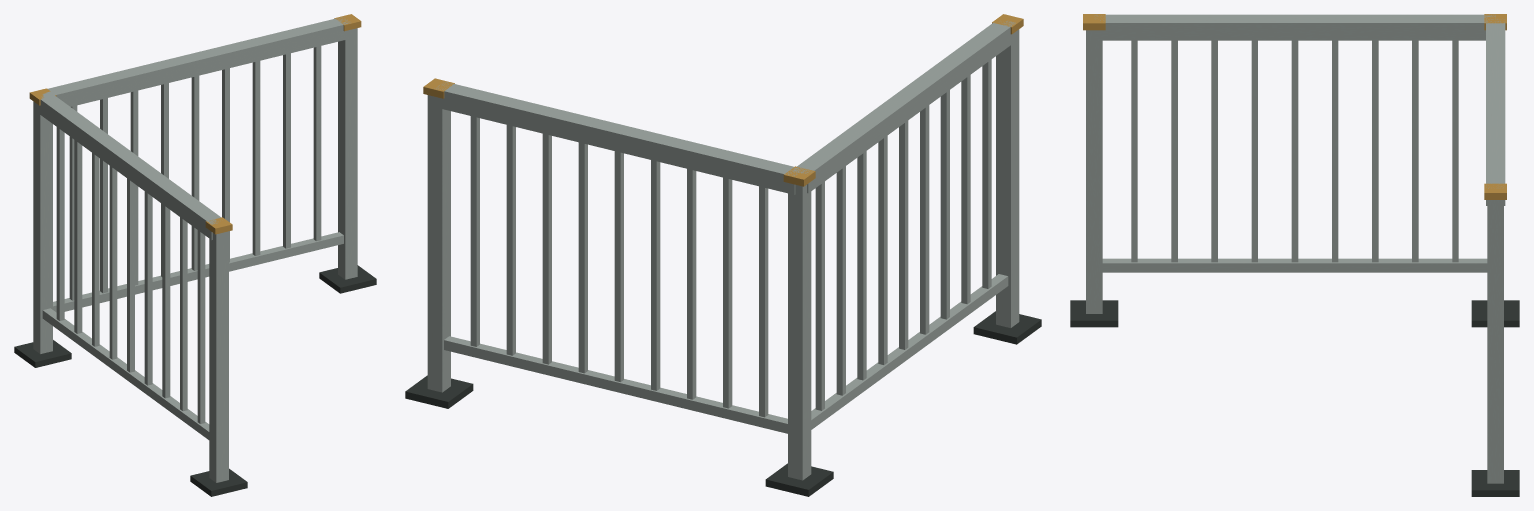
Rendered from railing-corner.glb.
3 views of the same model, side by side, from view 1: azimuth 30°, elevation 25°; view 2: azimuth 150°, elevation 25°; view 3: azimuth 270°, elevation 25° (orthographic). The views are drawn at different scales.
Parts seen in each view (by area): view 1: railing_baluster (×18), post_stem (×3), railing_handrail (×2), railing_lower_rail (×2), post_base (×3); view 2: railing_baluster (×18), post_stem (×3), railing_handrail (×2), railing_lower_rail (×2), post_base (×3); view 3: railing_baluster (×9), railing_handrail (×2), post_stem (×2), railing_lower_rail, post_base (×3).
Boxes of the visible parts, x1=… form: railing_baluster (×18): x1=56, y1=46, x2=321, y2=423; post_stem (×3): x1=33, y1=28, x2=357, y2=482; railing_handrail (×2): x1=35, y1=17, x2=352, y2=239; railing_lower_rail (×2): x1=42, y1=232, x2=343, y2=439; post_base (×3): x1=14, y1=265, x2=376, y2=496; railing_baluster (×18): x1=470, y1=59, x2=991, y2=417; post_stem (×3): x1=427, y1=29, x2=1019, y2=480; railing_handrail (×2): x1=434, y1=21, x2=1016, y2=194; railing_lower_rail (×2): x1=444, y1=274, x2=1008, y2=433; post_base (×3): x1=405, y1=311, x2=1041, y2=496; railing_baluster (×9): x1=1131, y1=40, x2=1458, y2=262; railing_handrail (×2): x1=1094, y1=14, x2=1505, y2=205; post_stem (×2): x1=1086, y1=30, x2=1503, y2=483; railing_lower_rail: x1=1102, y1=258, x2=1487, y2=272; post_base (×3): x1=1070, y1=300, x2=1519, y2=496.
Size of the model in its own units: 1.5 by 1.1 by 1.5.
Materials: 3 (3 with a texture image).
